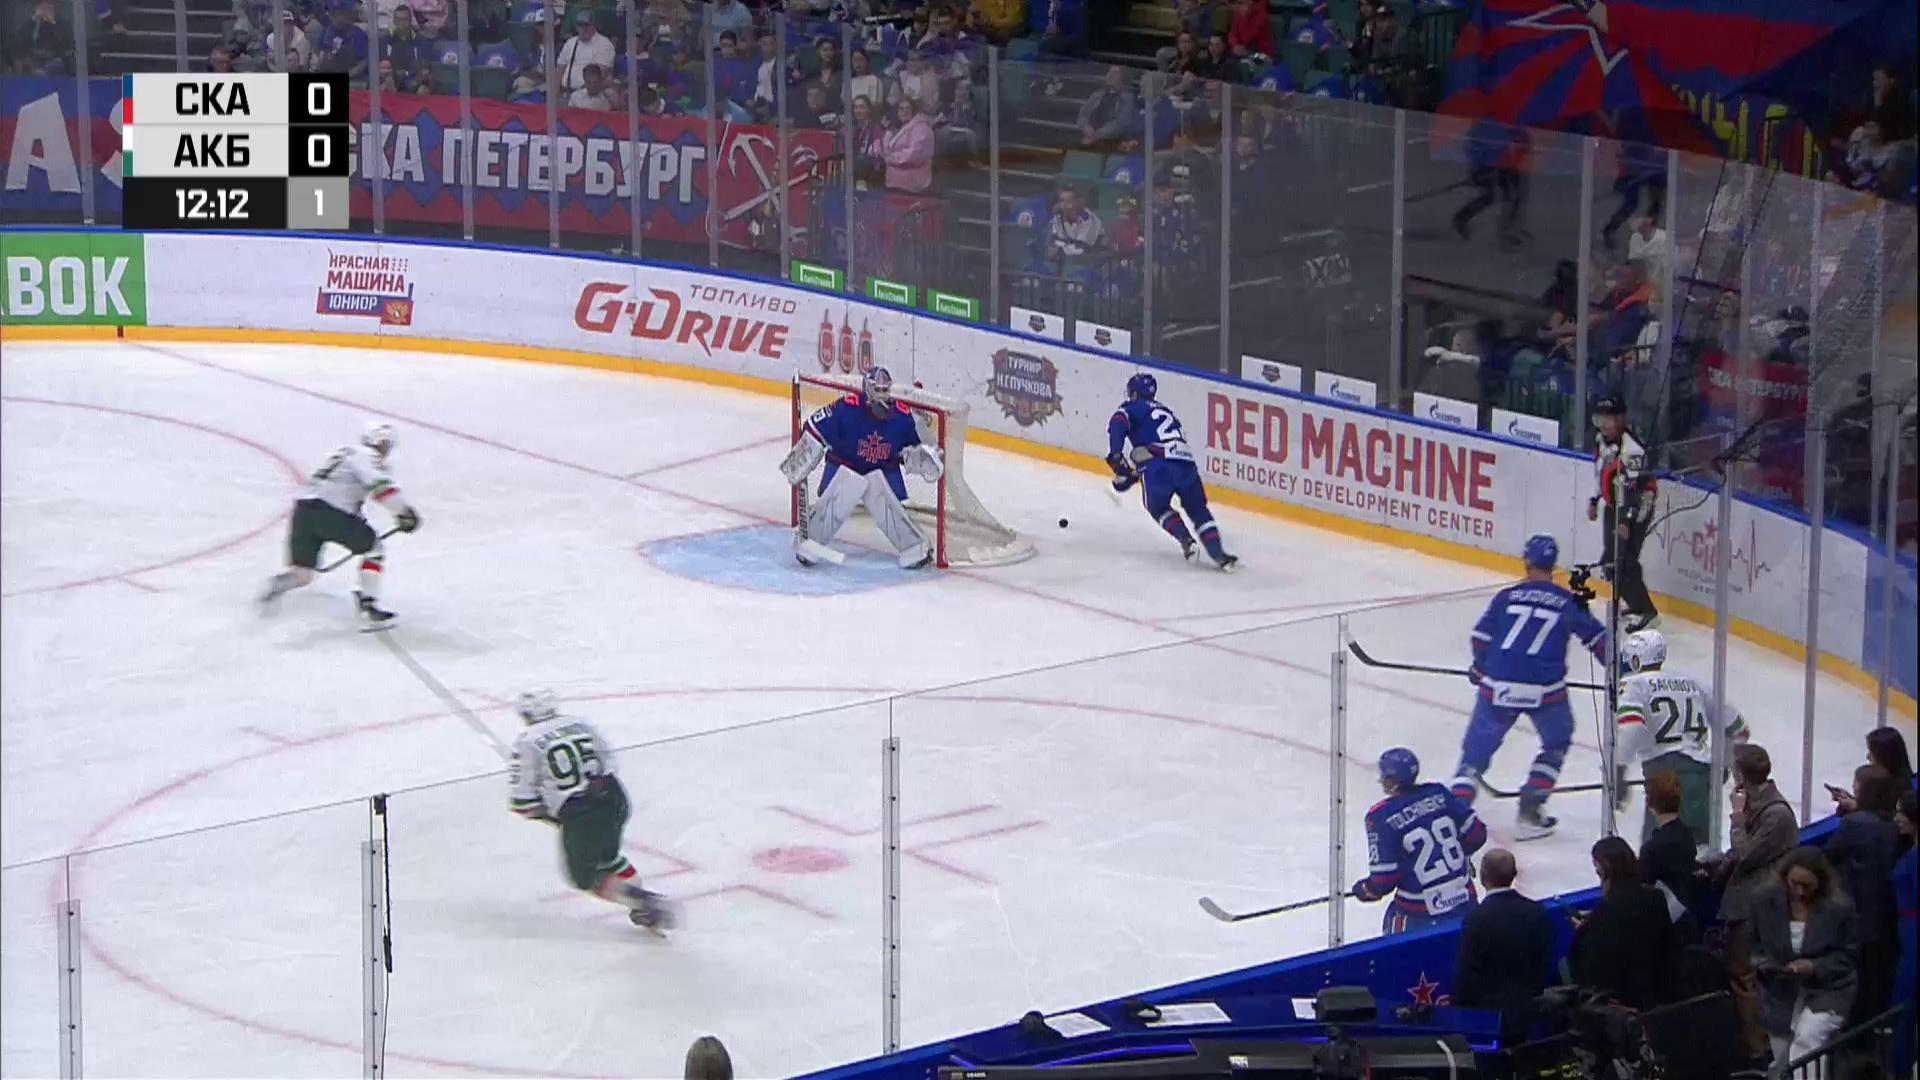ball: (1059, 518, 1068, 529)
